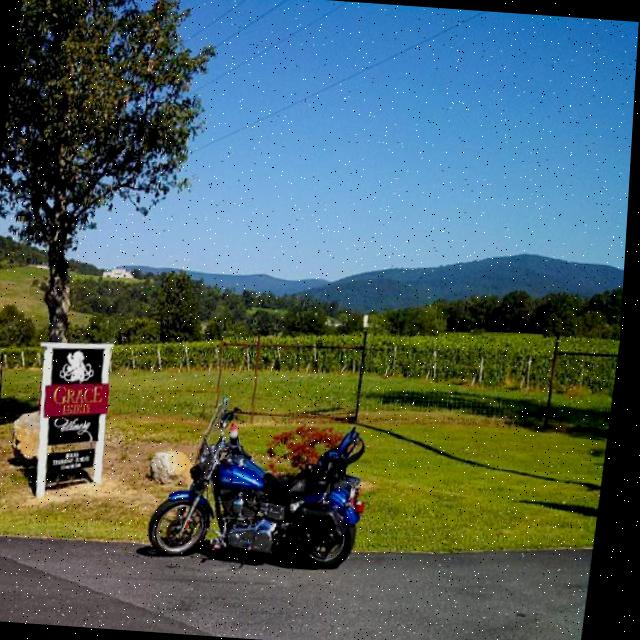motorcycle: (137, 393, 385, 578)
